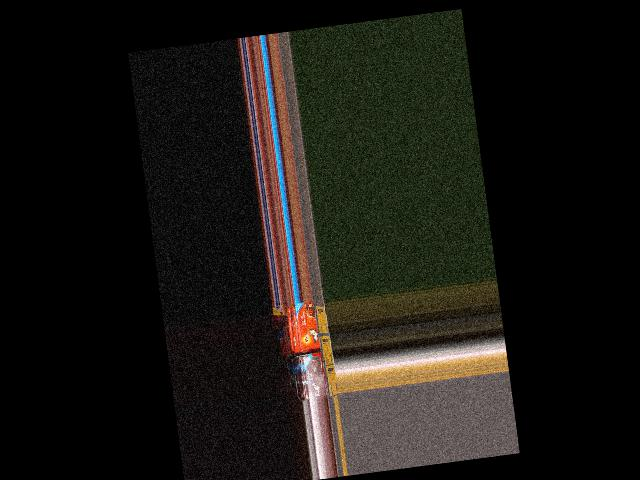chocolate: (300, 355, 332, 401)
